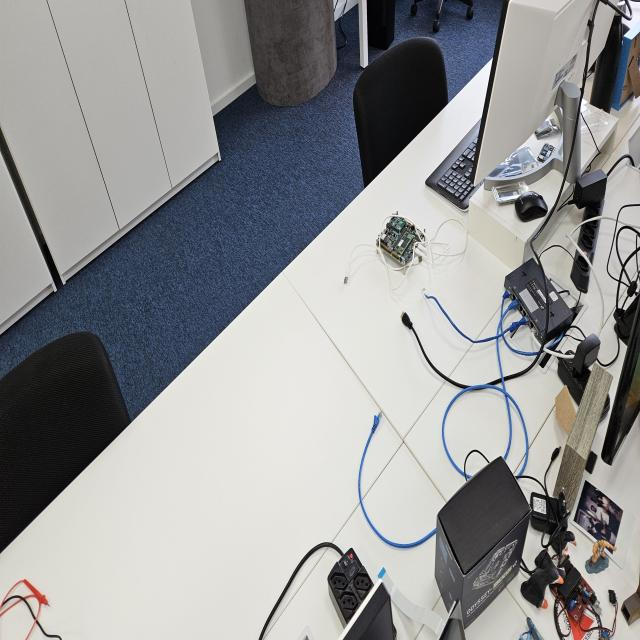som: (393, 229, 419, 255), (537, 141, 560, 166), (499, 187, 520, 202)
